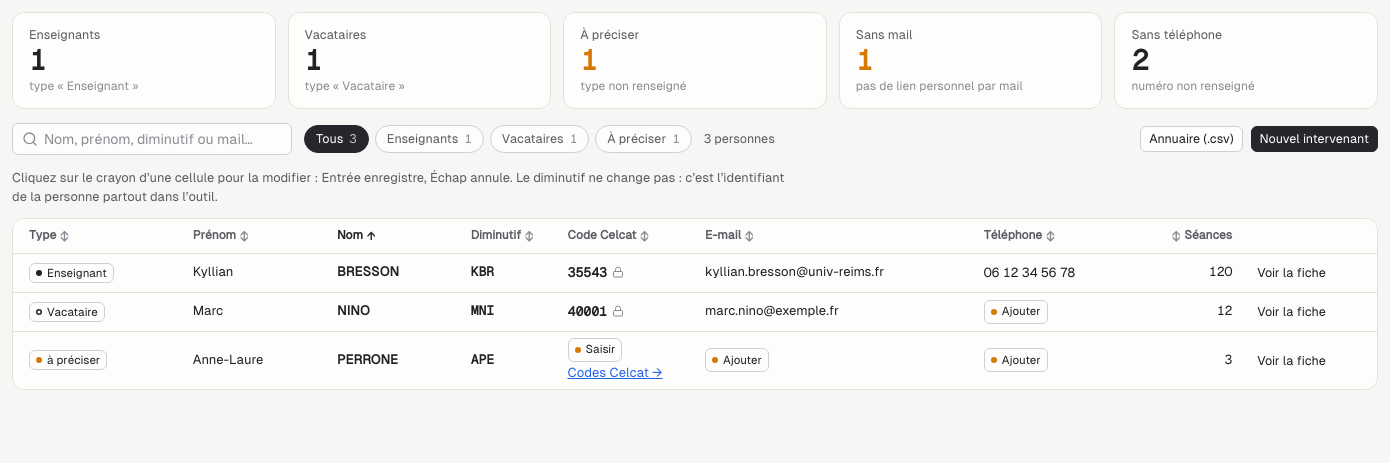
it: Référence — Enseignants & vacataires › code Celcat : la cellule de l'onglet Codes Celcat, saisie par un administrateur
Expected: the text "BRESSON" is shown, top-left (337, 263), bottom-right (399, 282)
Expected: the icon named "verrouillé" next to "35543" is shown, top-left (612, 266), bottom-right (624, 278)
Click the button with aria-label "Saisir — Code Celcat de APE": (595, 350) top-left (568, 338), bottom-right (622, 362)
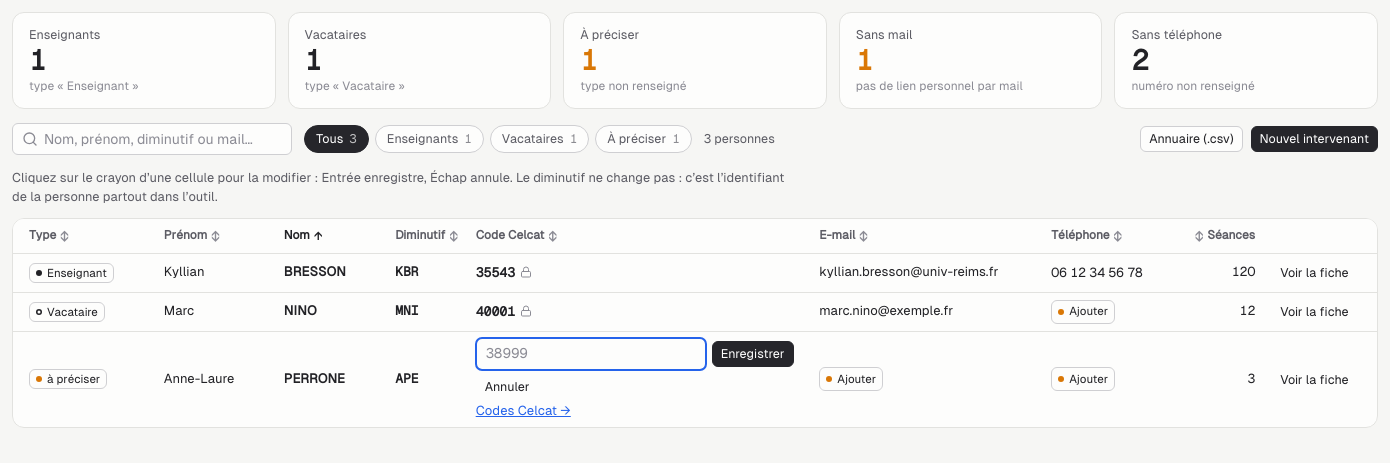
In the field named "Code Celcat de APE": (591, 354) top-left (476, 338), bottom-right (706, 370), type "40999"
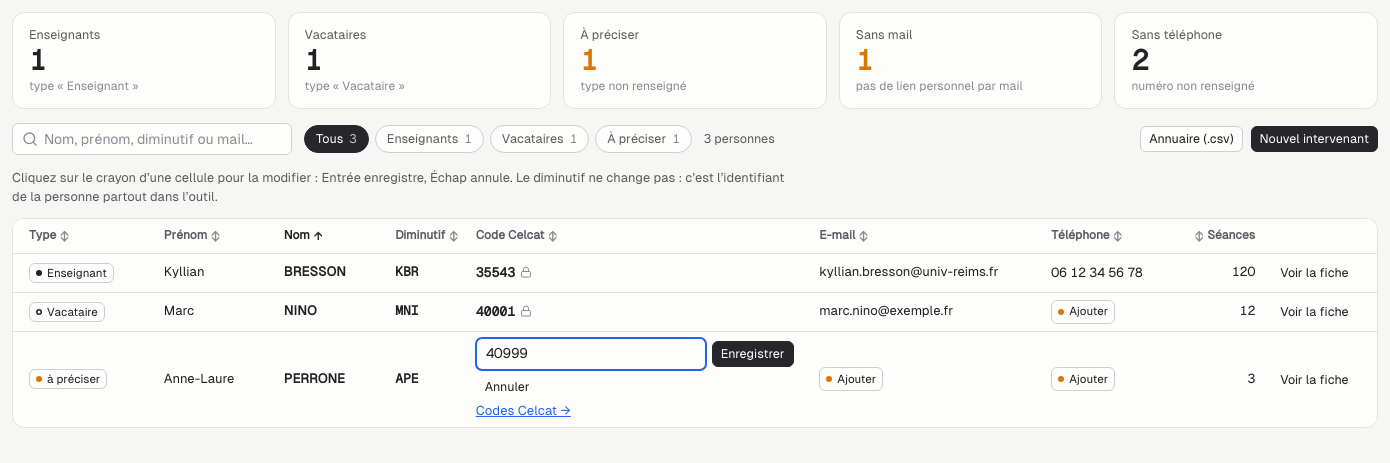
Submit the form named "Code Celcat de APE", box top-left (476, 338), bottom-right (794, 400)
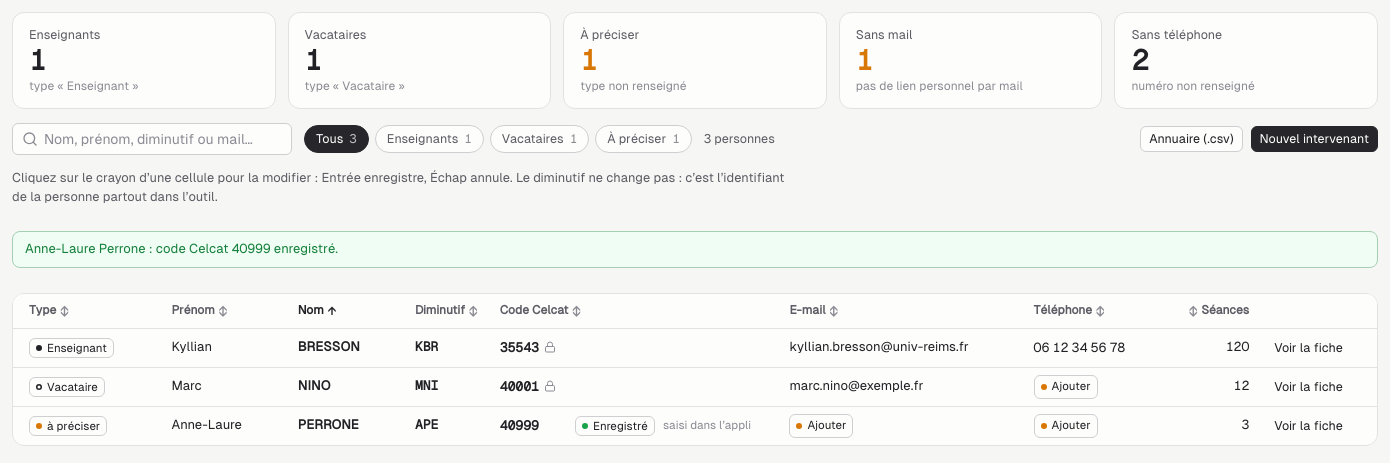
Expected: the button "Nouvel intervenant" is shown, top-left (1251, 126), bottom-right (1378, 152)
Now the text "saisi dans l’appli" is shown, box top-left (663, 419), bottom-right (751, 433)
